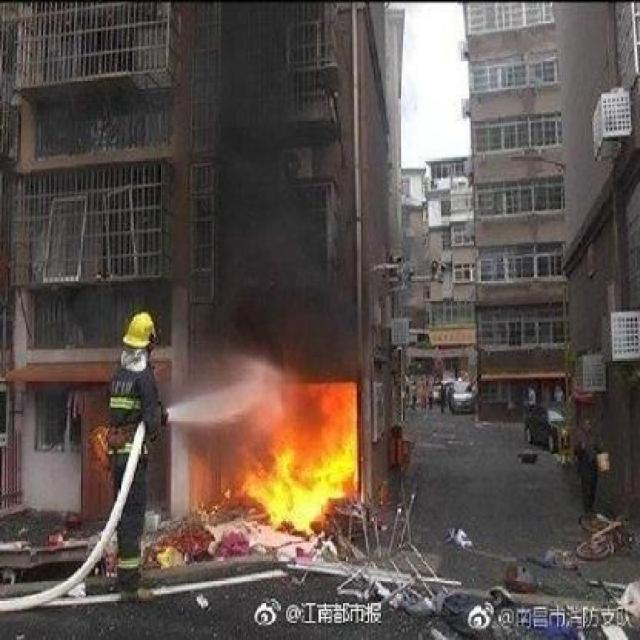Fire: (245, 401, 366, 536)
